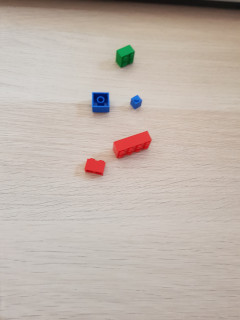1x1 blue: (130, 94, 143, 110)
1x2 red: (84, 158, 105, 175)
2x2 blue: (91, 91, 112, 114)
2x2 green: (115, 44, 136, 69)
2x4 red: (113, 131, 152, 158)
